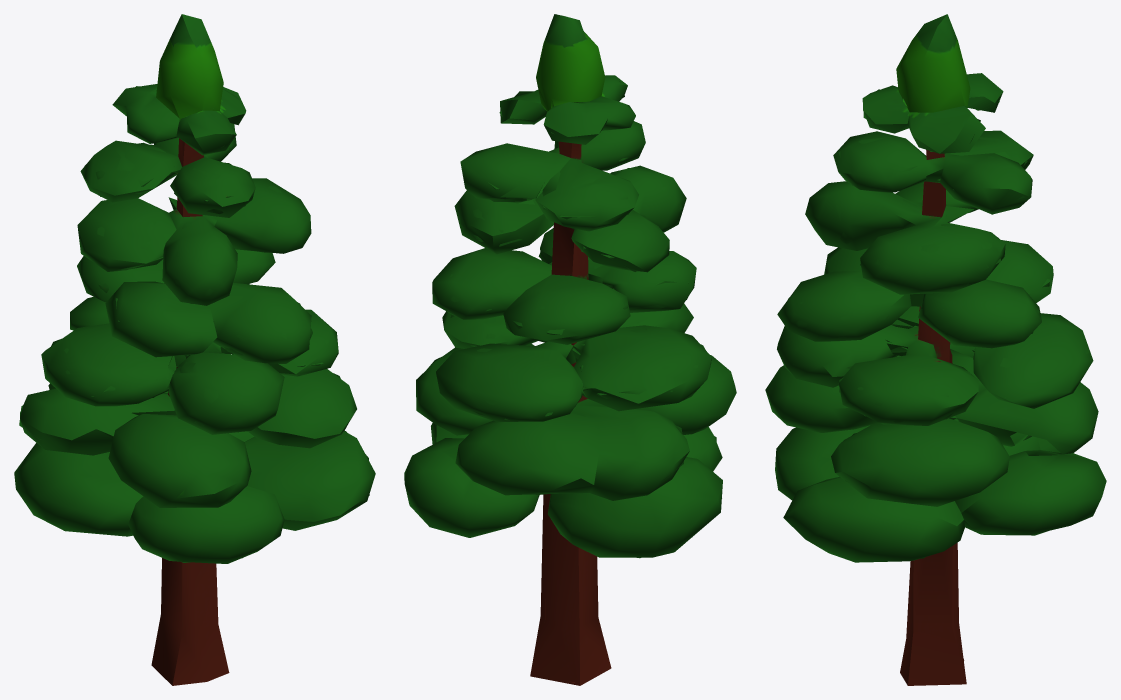
The model's file is valley-pine-lod1.glb.
3 views of the same model, side by side, from view 1: azimuth 30°, elevation 25°; view 2: azimuth 150°, elevation 25°; view 3: azimuth 270°, elevation 25° (orthographic).
Visible parts, largest first — view 1: valley-pine.002; view 2: valley-pine.002; view 3: valley-pine.002.
Boxes of the visible parts, bbox=[...] form: valley-pine.002: bbox=[14, 14, 375, 685]; valley-pine.002: bbox=[404, 14, 736, 685]; valley-pine.002: bbox=[765, 14, 1106, 685].
Size of the model in its own units: 4.79 by 10.02 by 4.71.
Materials: 1 (1 with a texture image).
